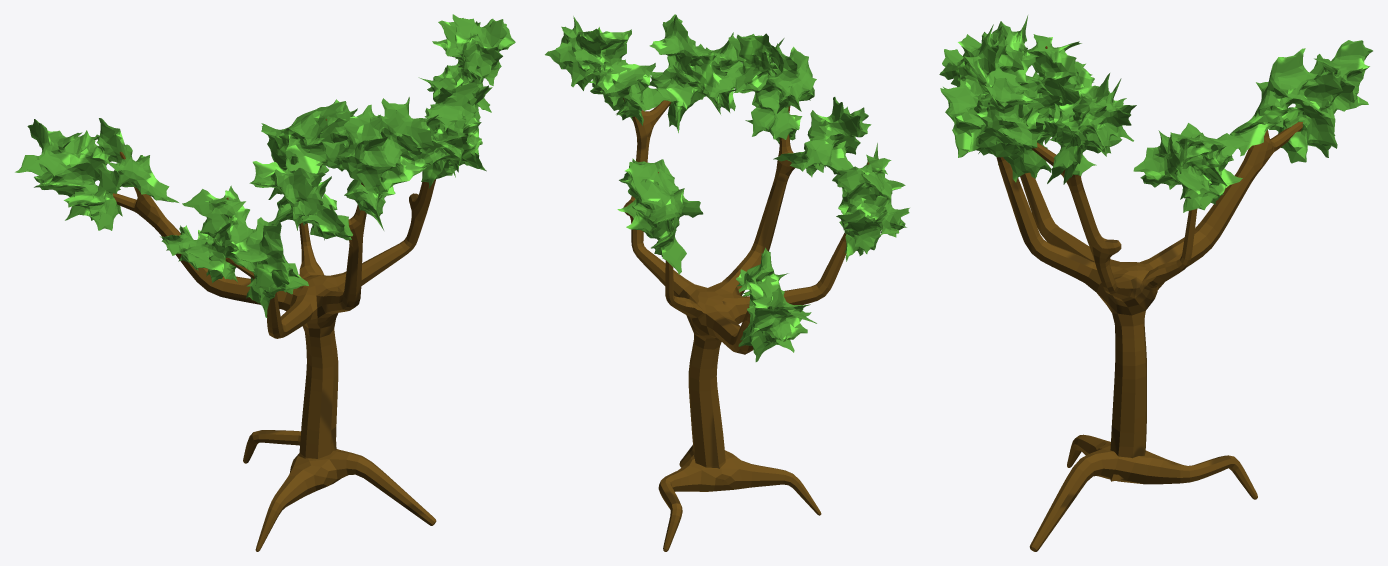
File: arbol1.fbx
3 views of the same model, side by side, from view 1: azimuth 30°, elevation 25°; view 2: azimuth 150°, elevation 25°; view 3: azimuth 270°, elevation 25° (orthographic). The views are drawn at different scales.
Parts seen in each view (by area): view 1: Vert.005; view 2: Vert.005; view 3: Vert.005.
Boxes of the visible parts, x1,y1,x2,y2 form: Vert.005: (15,14,515,551); Vert.005: (545,14,909,551); Vert.005: (939,15,1372,551).
Size of the model in its own units: 915 by 1027 by 1182.
